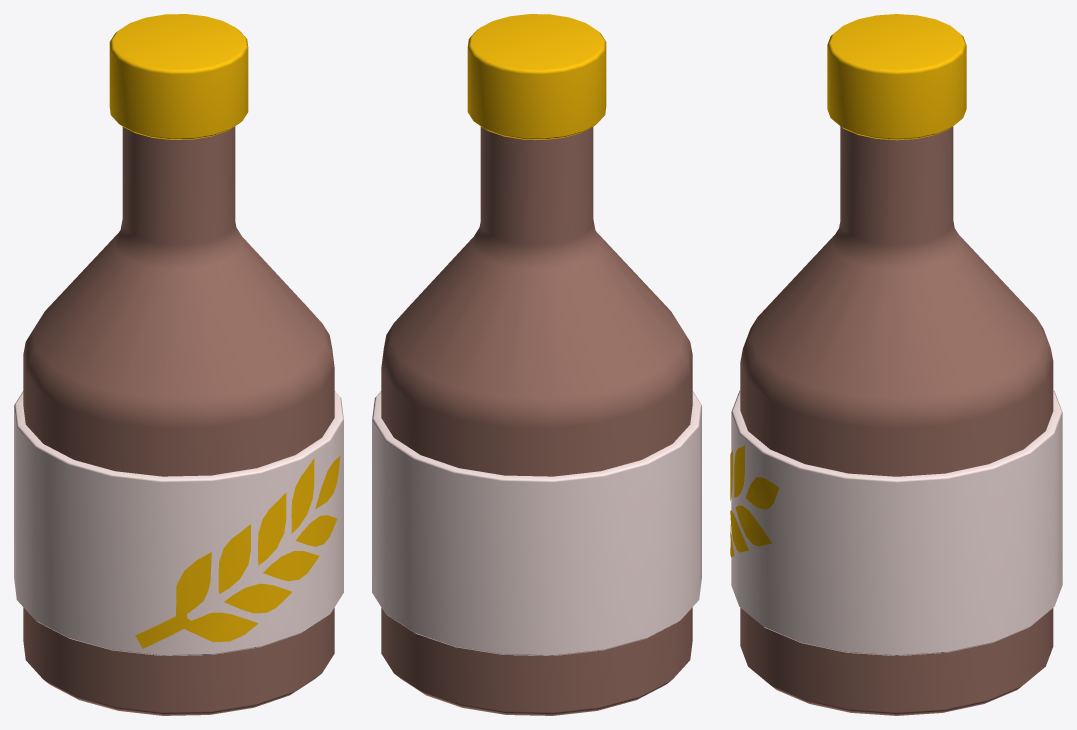
The model's file is Store_16_Bottle_2.glb.
3 renders of one model, left to right at view 1: azimuth 30°, elevation 25°; view 2: azimuth 150°, elevation 25°; view 3: azimuth 270°, elevation 25°, orthographic.
Visible parts, largest first — view 1: Store_16_Bottle_2; view 2: Store_16_Bottle_2; view 3: Store_16_Bottle_2.
Boxes of the visible parts, x1,y1,x2,y2 form: Store_16_Bottle_2: (14,14,343,715); Store_16_Bottle_2: (372,14,701,715); Store_16_Bottle_2: (730,14,1062,715).
Bounding box in the file's own units: 0.2056 × 0.4183 × 0.2061.
1 material, 1 textured.
